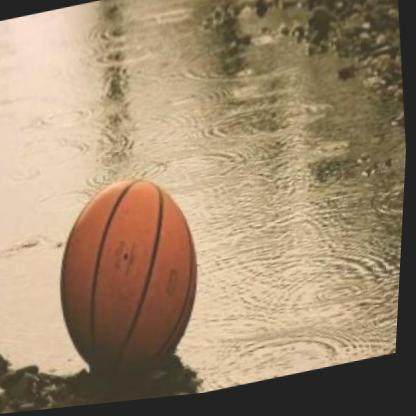basketball: (42, 164, 220, 402)
